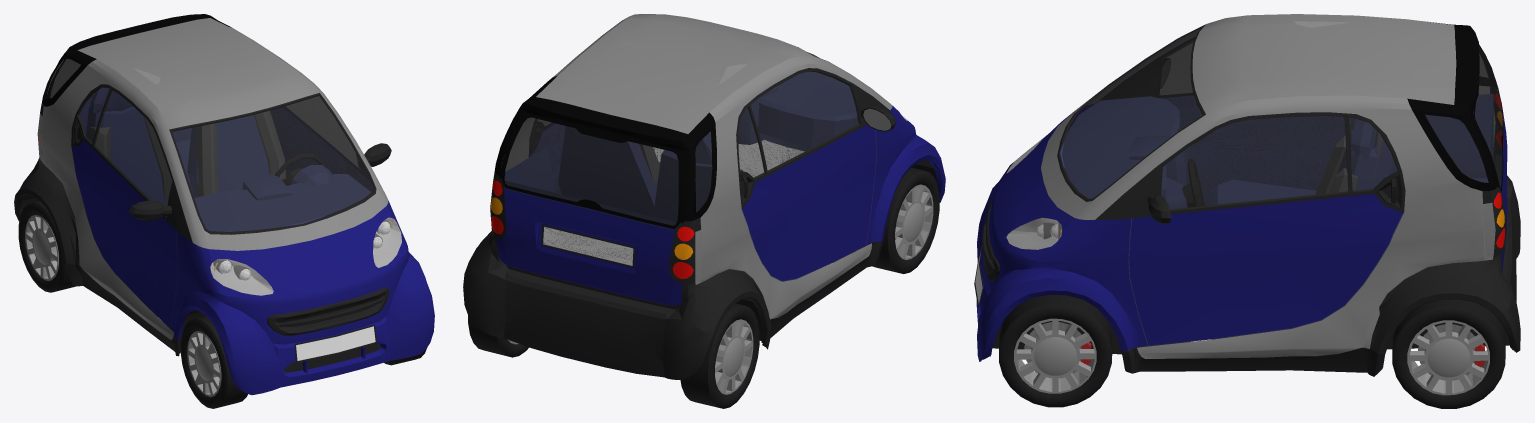
Rendered from smart.dae.
3 views of the same model, side by side, from view 1: azimuth 30°, elevation 25°; view 2: azimuth 150°, elevation 25°; view 3: azimuth 270°, elevation 25° (orthographic). The views are drawn at different scales.
Visible parts, largest first — view 1: nodeFromflattenedMesh; view 2: nodeFromflattenedMesh; view 3: nodeFromflattenedMesh.
Boxes of the visible parts, x1=… form: nodeFromflattenedMesh: x1=14, y1=14, x2=434, y2=408; nodeFromflattenedMesh: x1=463, y1=14, x2=945, y2=408; nodeFromflattenedMesh: x1=974, y1=14, x2=1520, y2=408.
Bounding box in the file's own units: 69.38 × 102 × 60.78.
